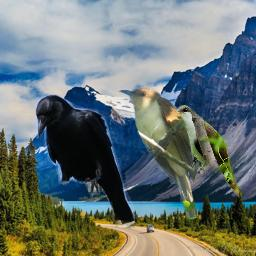Crow: (34, 94, 135, 230)
Cuckoo: (115, 85, 201, 226), (168, 105, 246, 198)
